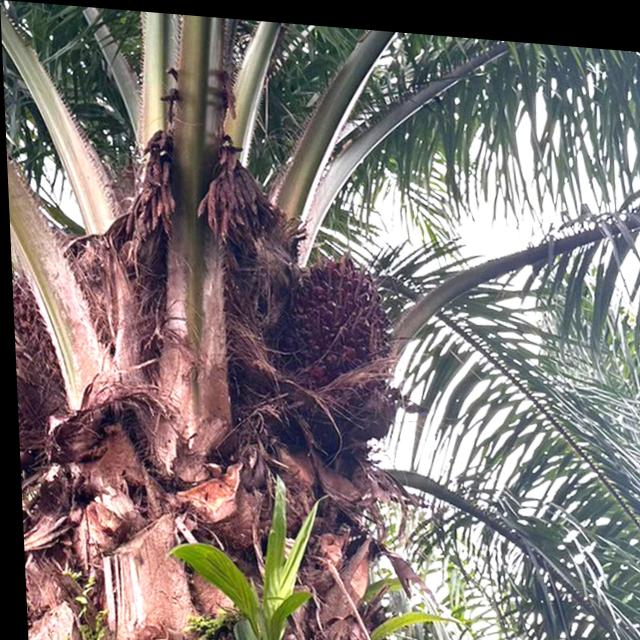ripe: (279, 233, 407, 411)
